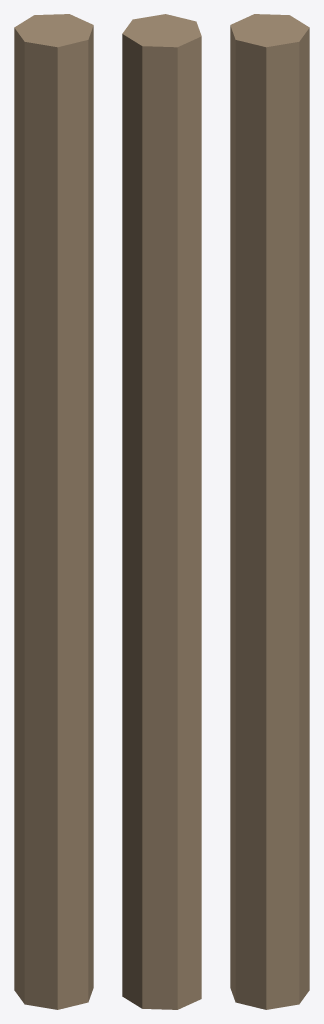
Rendered from piquet.glb.
The picture shows the model from 3 angles, left to right: view 1: azimuth 30°, elevation 25°; view 2: azimuth 150°, elevation 25°; view 3: azimuth 330°, elevation 25°; orthographic projection.
Parts seen in each view (by area): view 1: piquet; view 2: piquet; view 3: piquet.
Part boxes in pixels (x1,y1,x2,y2): piquet: (14,14,93,1009); piquet: (122,14,201,1009); piquet: (230,14,309,1009).
Bounding box in the file's own units: 0.0975 × 1.3 × 0.095.
